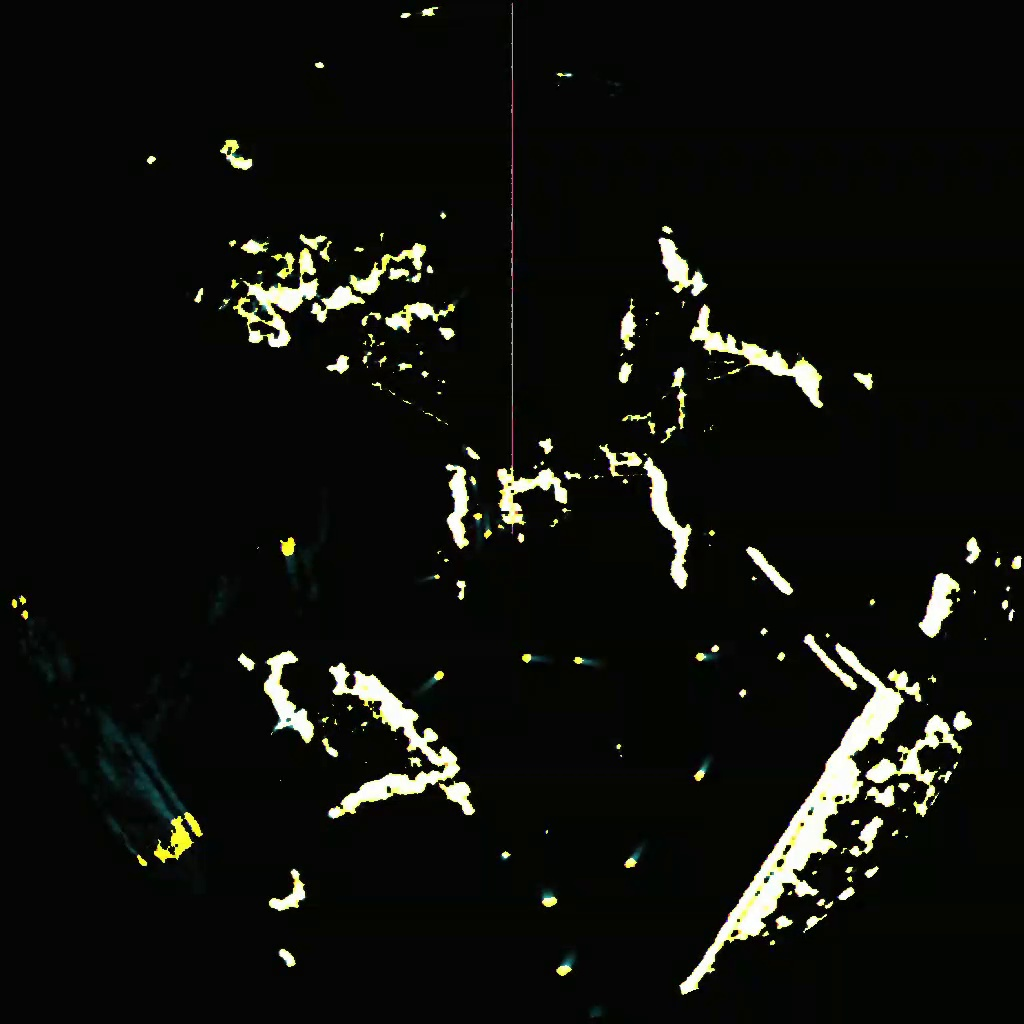B: (416, 669, 443, 698), (553, 952, 578, 979), (518, 651, 557, 666), (622, 844, 645, 869), (689, 758, 712, 782), (539, 888, 560, 910), (571, 656, 605, 669), (479, 511, 494, 538), (471, 511, 482, 545), (691, 650, 719, 663), (414, 574, 441, 586), (469, 477, 480, 495)
